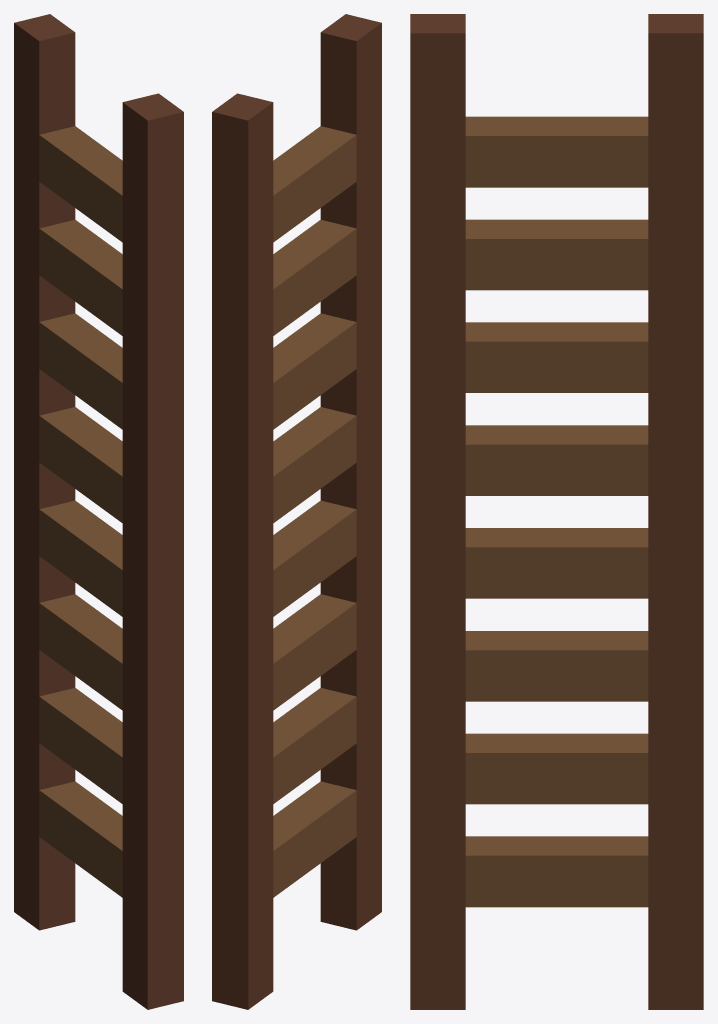
Rendered from Ladder.fbx.
The picture shows the model from 3 angles, left to right: view 1: azimuth 30°, elevation 25°; view 2: azimuth 150°, elevation 25°; view 3: azimuth 270°, elevation 25°; orthographic projection. The views are drawn at different scales.
Parts seen in each view (by area): view 1: Ladder; view 2: Ladder; view 3: Ladder.
Part boxes in pixels (x1,y1,x2,y2): Ladder: (14, 14, 183, 1009); Ladder: (212, 14, 381, 1009); Ladder: (410, 14, 703, 1009).
Size of the model in its own units: 0.0993 by 2.34 by 0.6379.
1 material, 1 textured.
